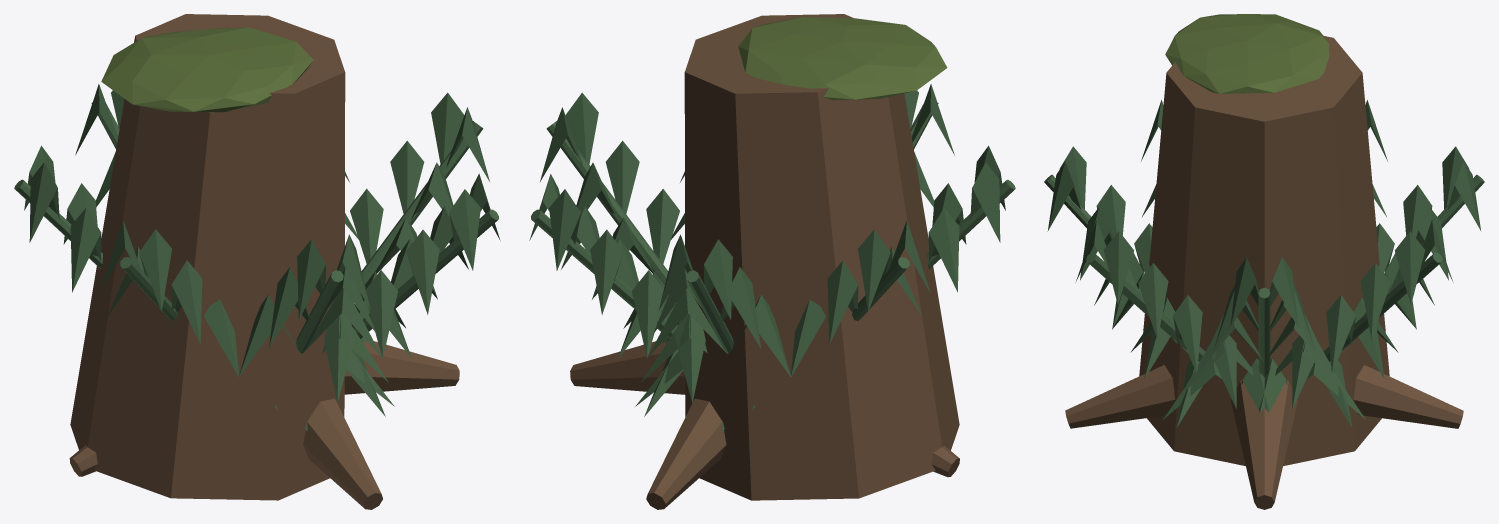
Rendered from mossy_cedar.glb.
3 renders of one model, left to right at view 1: azimuth 30°, elevation 25°; view 2: azimuth 150°, elevation 25°; view 3: azimuth 270°, elevation 25°, orthographic. The views are drawn at different scales.
Parts seen in each view (by area): view 1: MG2 mossy_cedar MG2 Wood cedar, MG2 mossy_cedar MG2 Leaves, MG2 mossy_cedar MG2 Moss; view 2: MG2 mossy_cedar MG2 Wood cedar, MG2 mossy_cedar MG2 Leaves, MG2 mossy_cedar MG2 Moss; view 3: MG2 mossy_cedar MG2 Wood cedar, MG2 mossy_cedar MG2 Leaves, MG2 mossy_cedar MG2 Moss.
Boxes of the visible parts, x1=… form: MG2 mossy_cedar MG2 Wood cedar: x1=69, y1=14, x2=459, y2=509; MG2 mossy_cedar MG2 Leaves: x1=14, y1=84, x2=500, y2=431; MG2 mossy_cedar MG2 Moss: x1=101, y1=27, x2=313, y2=112; MG2 mossy_cedar MG2 Wood cedar: x1=570, y1=14, x2=959, y2=509; MG2 mossy_cedar MG2 Leaves: x1=529, y1=84, x2=1015, y2=432; MG2 mossy_cedar MG2 Moss: x1=738, y1=17, x2=947, y2=100; MG2 mossy_cedar MG2 Wood cedar: x1=1065, y1=35, x2=1463, y2=509; MG2 mossy_cedar MG2 Leaves: x1=1044, y1=100, x2=1484, y2=427; MG2 mossy_cedar MG2 Moss: x1=1165, y1=14, x2=1329, y2=93.
Bounding box in the file's own units: 0.5092 × 0.4812 × 0.5169.
